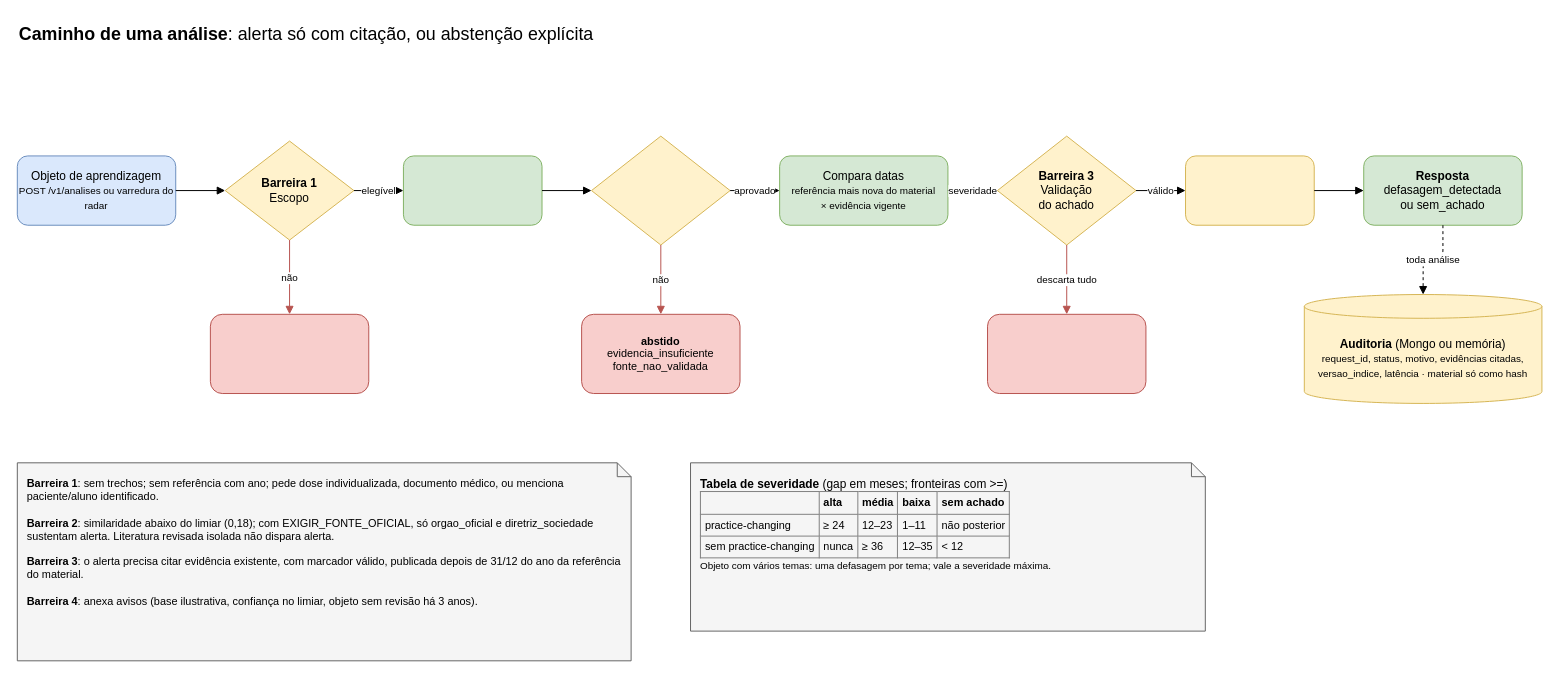
The diagram is 1559 pixels wide and 678 high, and some of its shapes have lost their labels. Here are the shapes that lost their labels. From the top down, the centre of each, then its label:
At point 472,190: "Busca por tema TF-IDF, top_k=3".
At point 660,190: "Barreira 2 Confiança e proveniência".
At point 1249,190: "Barreira 4 Alertas não bloqueia".
At point 289,353: "abstido objeto_invalido material_sem_referencia fora_de_escopo".
At point 1066,353: "abstido alerta_descartado regressão no gerador, nunca vira sem_achado".
